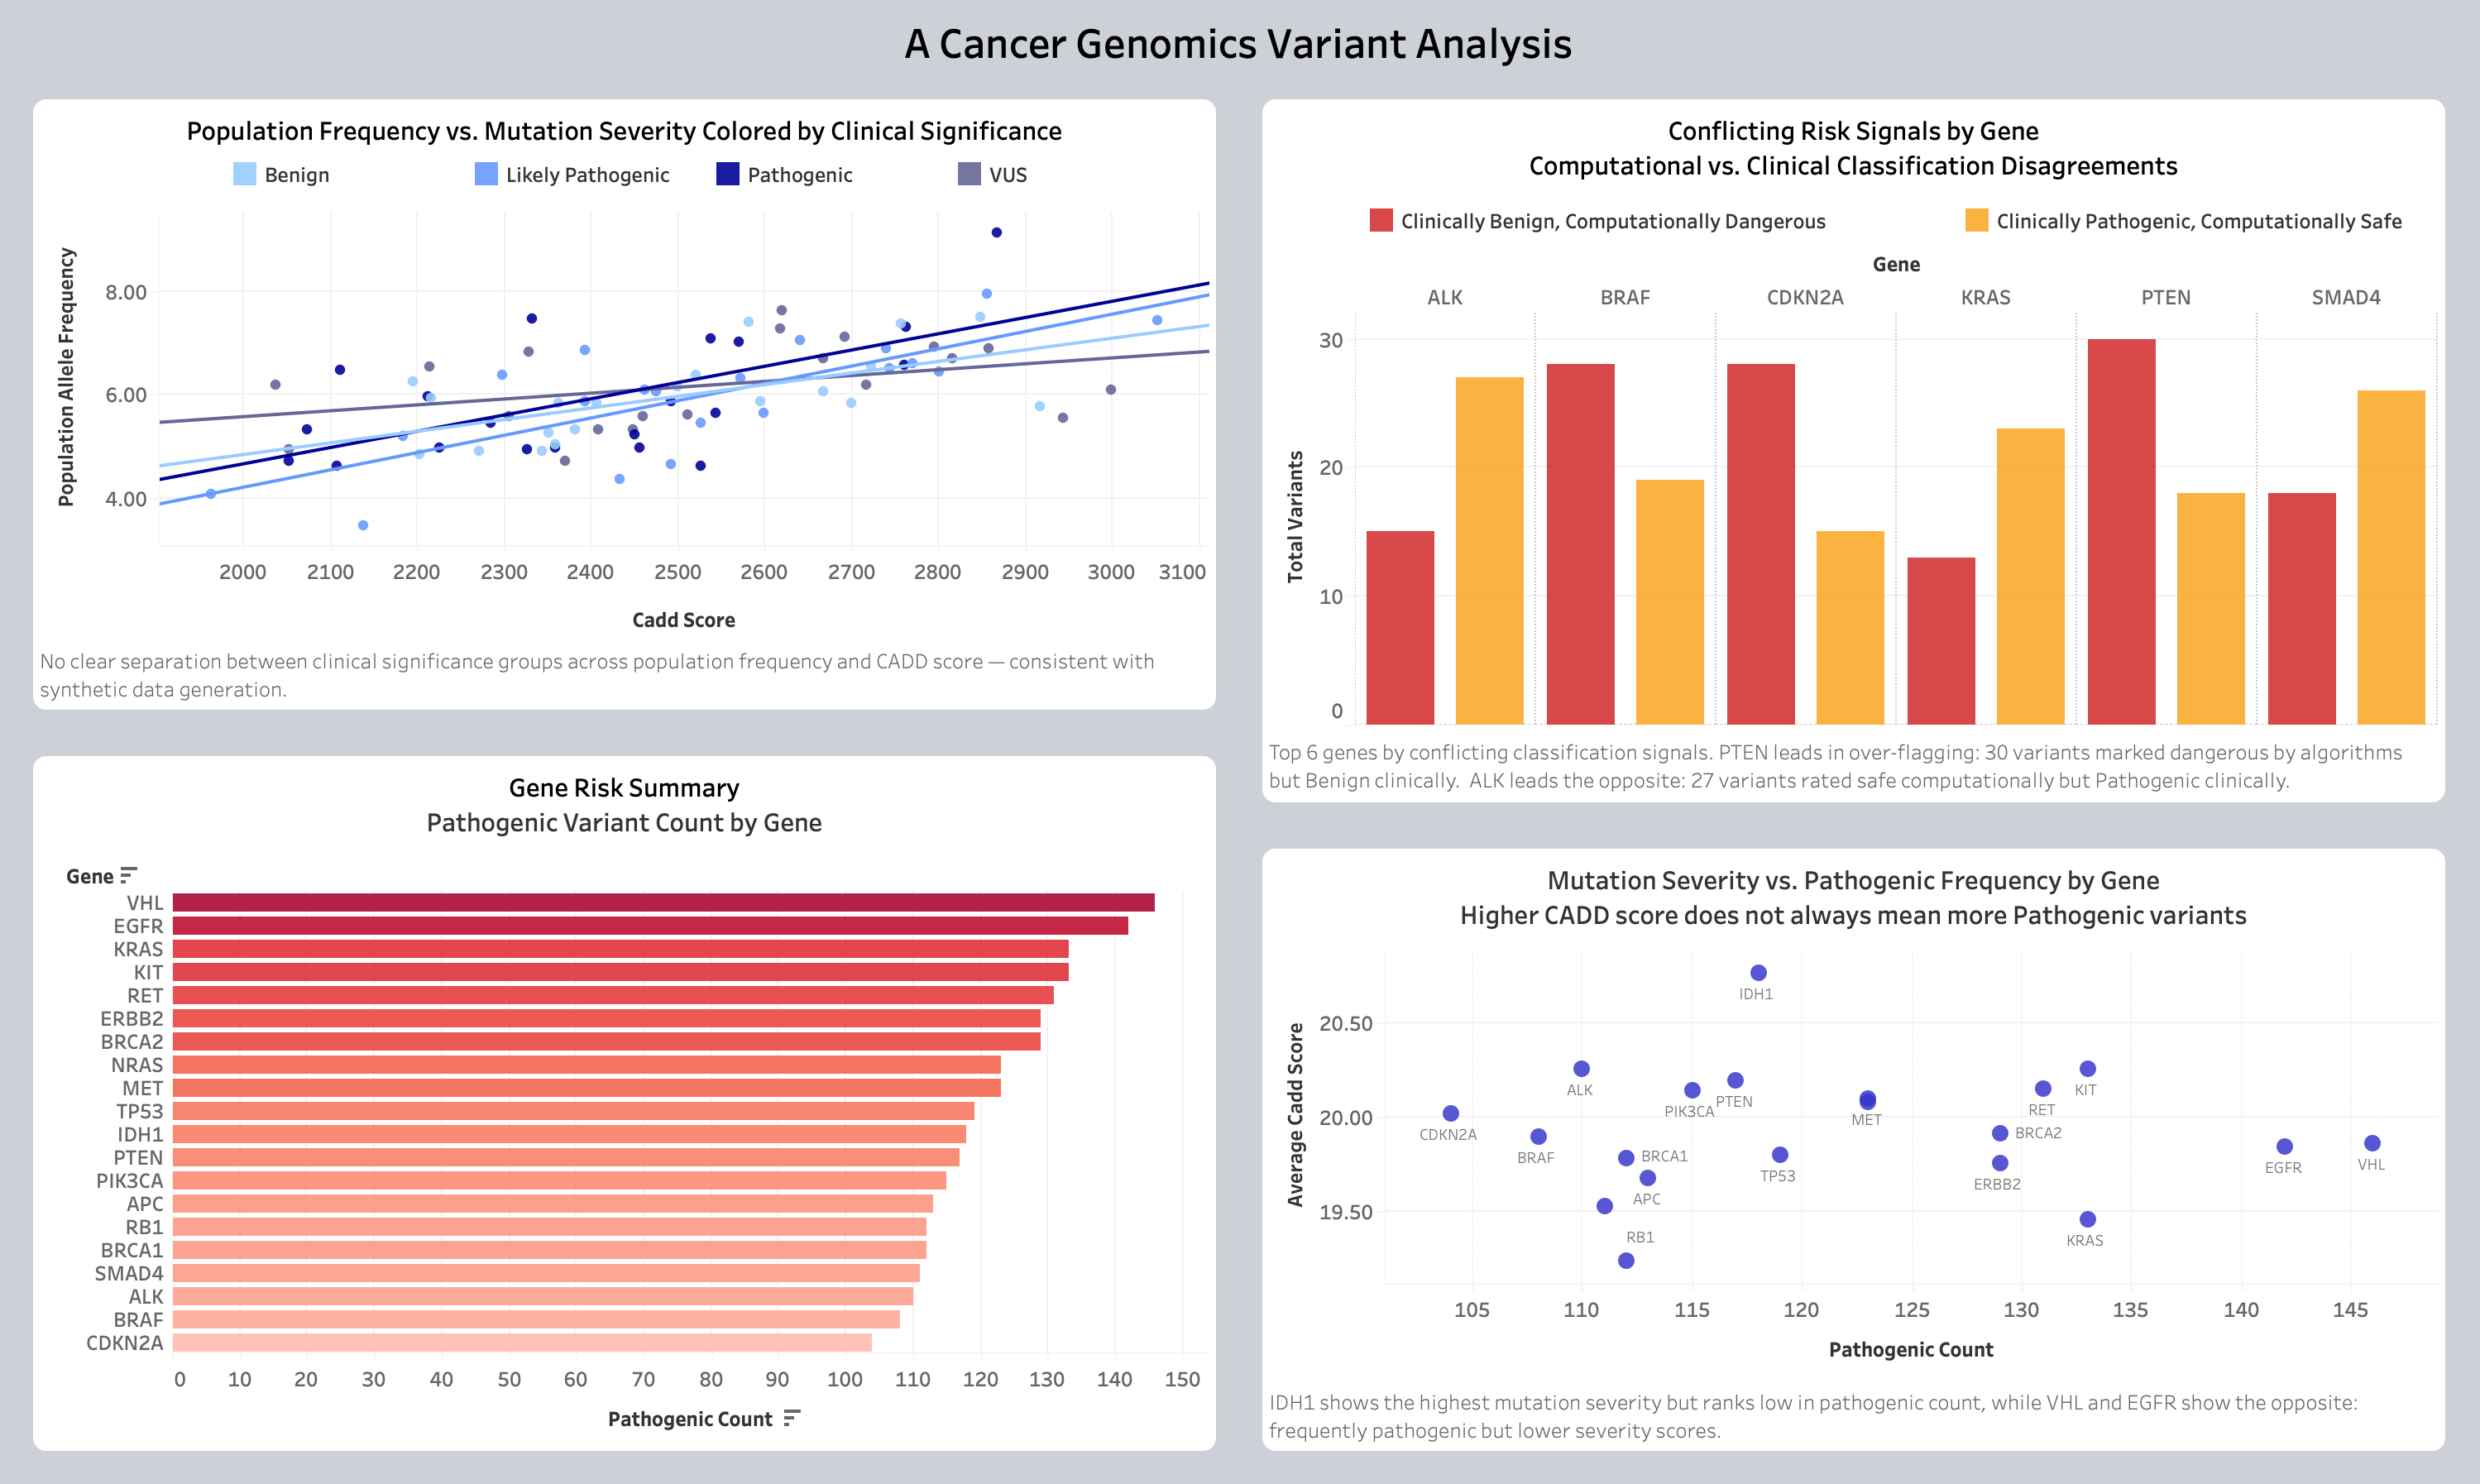

Layout of this report page (visuals, bound fields, positions):
{"tool":"tableau","page":{"name":"Cancer_Variants_Analysis","canvas":[1500,900],"ordinal":0},"visuals":[{"type":"title","box":[7,7,1486,41]},{"type":"worksheet","title":"Population Frequency vs. Mutation Severity Colored by Clinical Significance","mark":"Circle","rows":["population_af"],"cols":["cadd_score"],"box":[7,48,742.8,396.6]},{"type":"worksheet","title":"Conflicting Risk Signals by Gene","mark":"Automatic","rows":["total_variants"],"cols":["gene","clinical_significance"],"box":[749.9,48,743.1,453]},{"type":"legend","title":"Population Frequency vs. Mutation Severity Colored by Clinical Significance","param":"[federated.18dd5ti1gtavu81bvhccw01jrx04].[none:clinical_significance:nk]","box":[139,97,645,21]},{"type":"worksheet","title":"Pathogenic Variant Count by Gene","mark":"Automatic","rows":["gene"],"cols":["pathogenic_count"],"box":[7,444.6,742.8,448.4]},{"type":"worksheet","title":"Mutation Severity vs. Pathogenic Frequency by Gene","mark":"Circle","rows":["avg_cadd_score"],"cols":["pathogenic_count"],"box":[749.9,501,743.1,392]}]}

Visuals, with their boxes in screenshot pixels (x1, y1, x2, y2), scaled from the page's 1500x900 canvas onto the 2480x1484 screenshot:
title: 12,12,2468,79
"Population Frequency vs. Mutation Severity Colored by Clinical Significance" worksheet (Circle marks): 12,79,1240,733
"Conflicting Risk Signals by Gene" worksheet: 1240,79,2468,826
"Population Frequency vs. Mutation Severity Colored by Clinical Significance" legend: 230,160,1296,194
"Pathogenic Variant Count by Gene" worksheet: 12,733,1240,1472
"Mutation Severity vs. Pathogenic Frequency by Gene" worksheet (Circle marks): 1240,826,2468,1472
